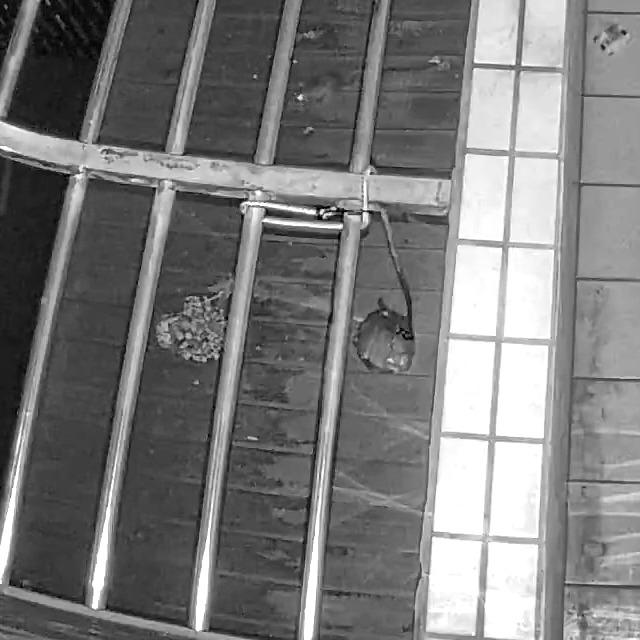rat: (292, 61, 438, 113)
